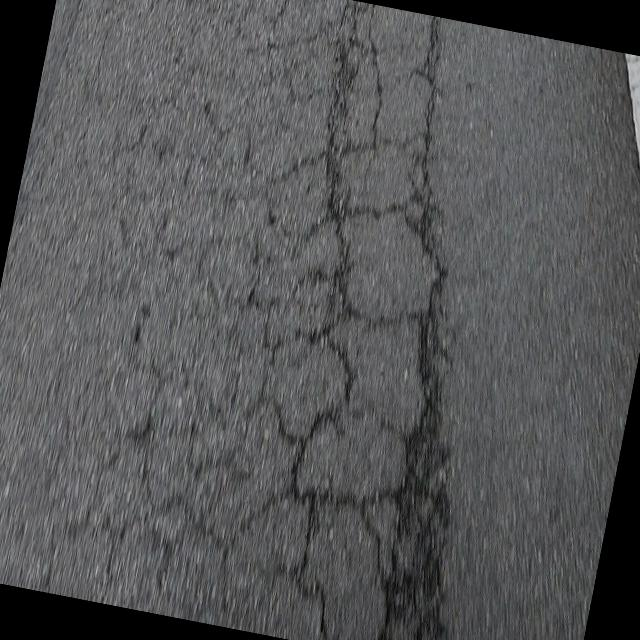Retak-Buaya: (150, 0, 448, 640)
